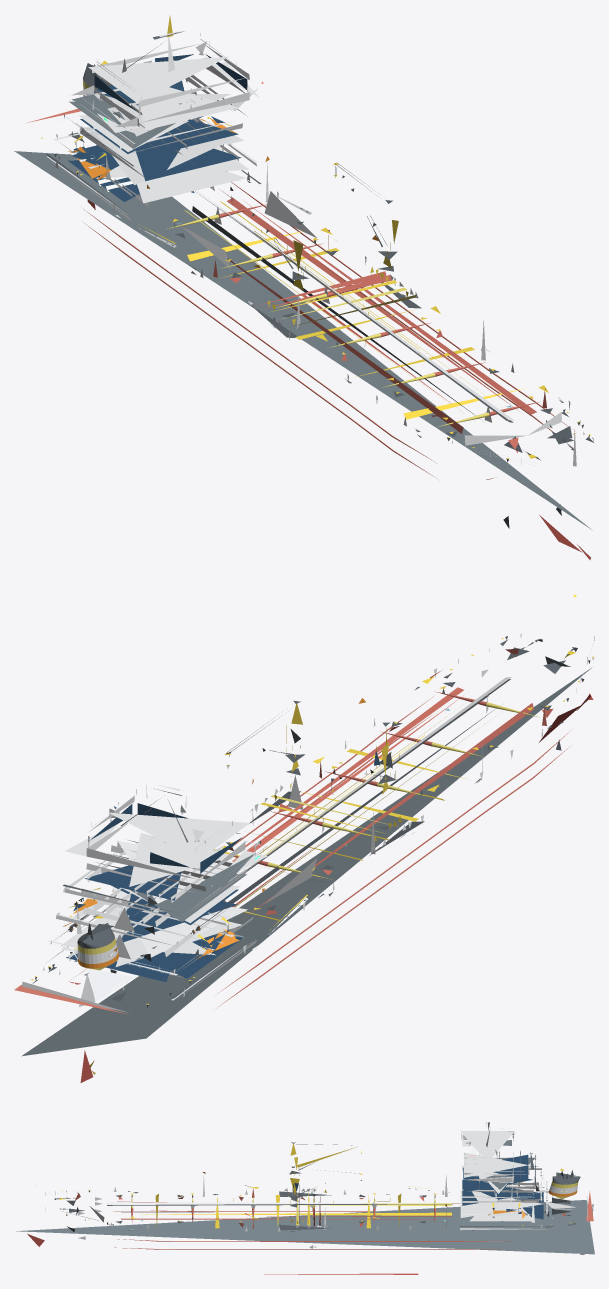
File: ship_09.glb
3 renders of one model, top to bottom at view 1: azimuth 30°, elevation 25°; view 2: azimuth 150°, elevation 25°; view 3: azimuth 270°, elevation 25°, orthographic. The views are drawn at different scales.
Visible parts, largest first — view 1: TrueHelm_Ship_09; view 2: TrueHelm_Ship_09; view 3: TrueHelm_Ship_09.
Part boxes in pixels (x1=…): TrueHelm_Ship_09: x1=14, y1=15, x2=593, y2=559; TrueHelm_Ship_09: x1=14, y1=594, x2=594, y2=1082; TrueHelm_Ship_09: x1=16, y1=1122, x2=594, y2=1274.
Bounding box in the file's own units: 0.1216 × 0.1869 × 0.6958.
